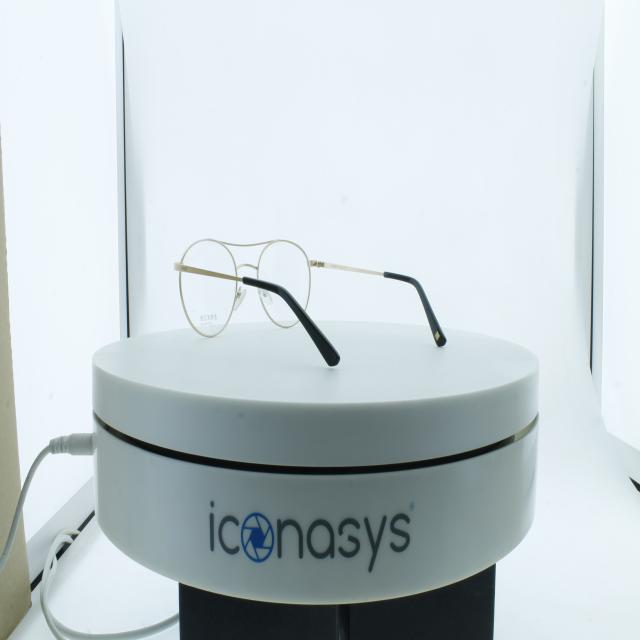Specs: (159, 216, 455, 380)
